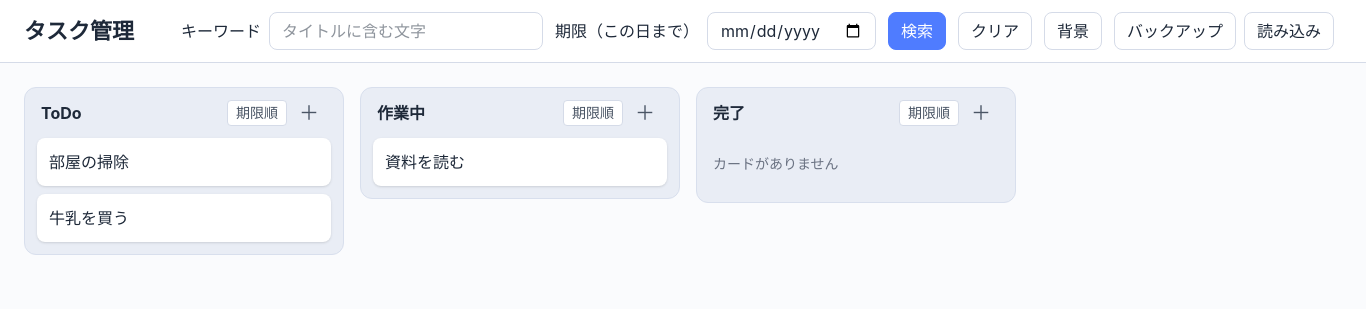
Test case: 「クリア」を押すと、お知らせが消えて、カードを動かせるようになる
Expected: the element "ToDo" is shown, left=24, top=87, right=344, bottom=255
Type "掃除" into the search field labelled "キーワード" at (406, 31), box left=269, top=12, right=543, bottom=50
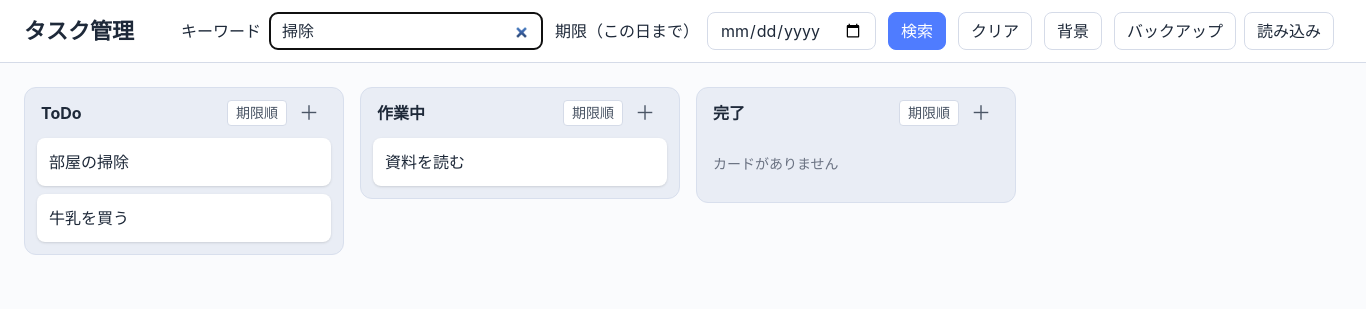
Click the button "検索" at (917, 31), box left=888, top=12, right=946, bottom=50
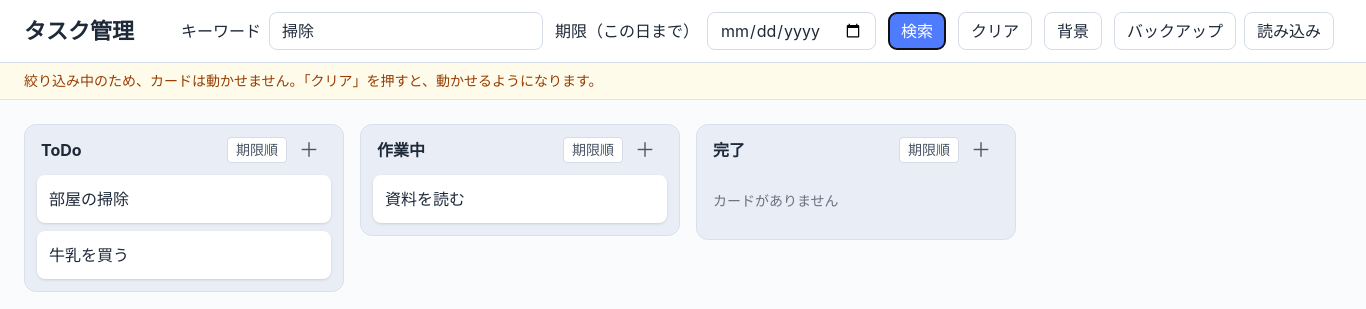
Now the text "絞り込み中のため、カードは動かせません。「クリア」を押すと、動かせるようになります。" is shown, box left=0, top=63, right=1365, bottom=100
Click the button "クリア" at (995, 31), box left=958, top=12, right=1032, bottom=50
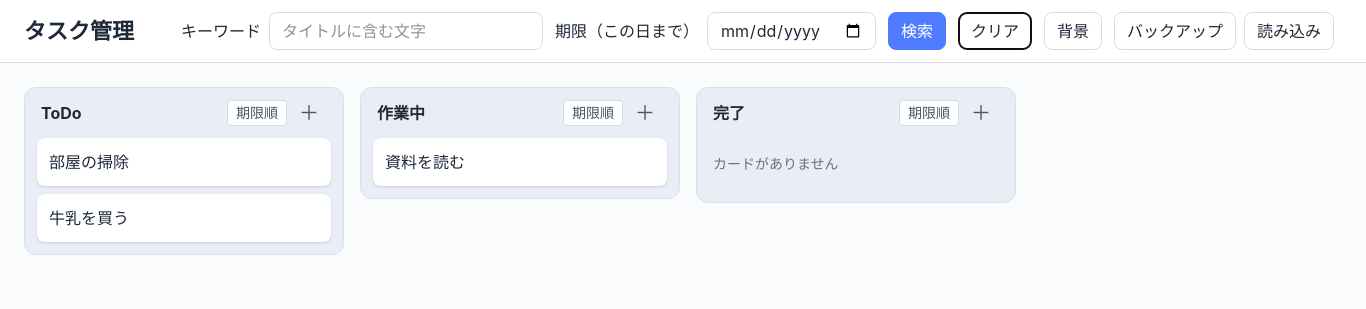
Expected: the element "ToDo" is shown, left=24, top=87, right=344, bottom=255
Now the text "絞り込み中のため、カードは動かせません" is gone
